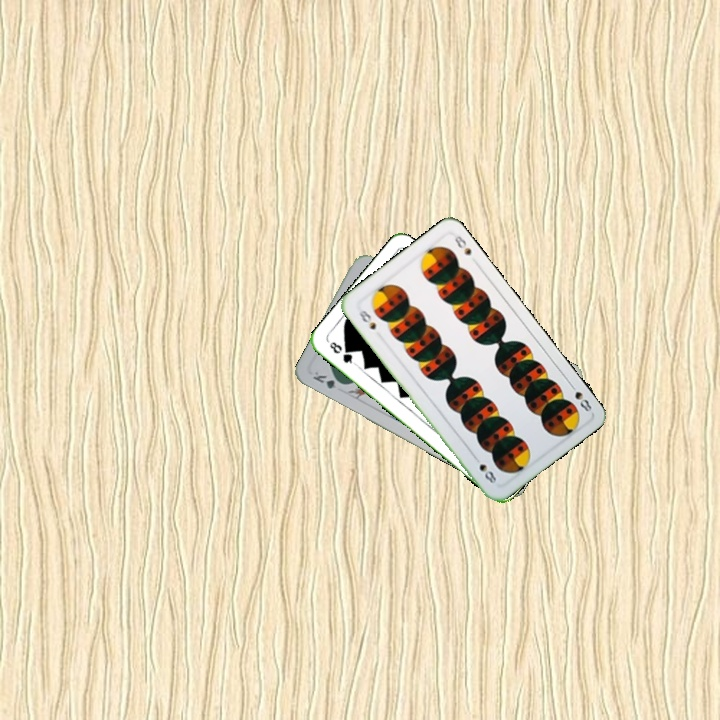G8: (325, 337, 358, 367)
GK: (309, 367, 348, 391)
S8: (565, 379, 594, 415), (355, 306, 379, 332)
